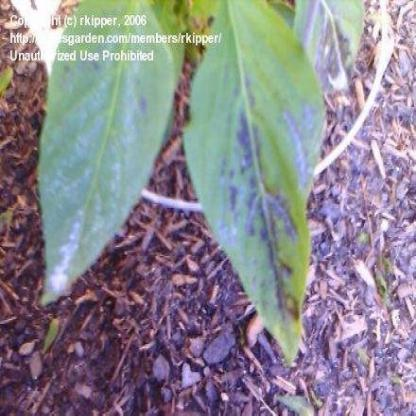Bell_pepper leaf spot: (185, 2, 313, 364), (40, 1, 174, 295)
